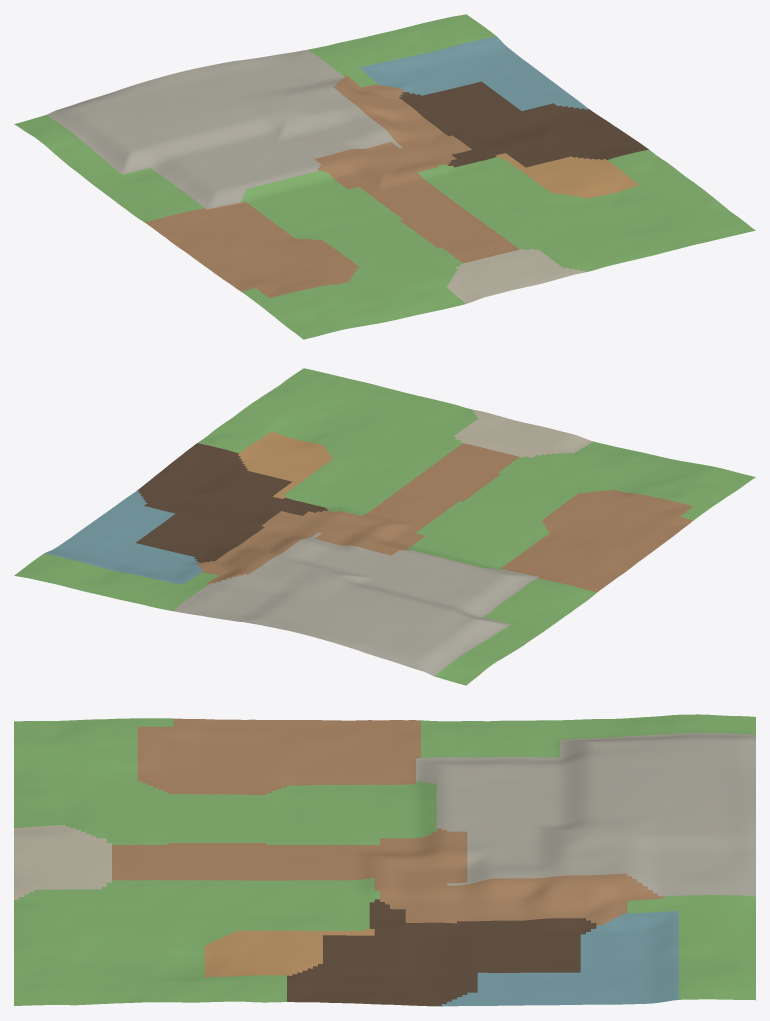
File: cedar_hollow_heightmesh.glb
3 views of the same model, one above another, from view 1: azimuth 30°, elevation 25°; view 2: azimuth 150°, elevation 25°; view 3: azimuth 270°, elevation 25° (orthographic). The views are drawn at different scales.
Visible parts, largest first — view 1: cedar_hollow_heightmesh; view 2: cedar_hollow_heightmesh; view 3: cedar_hollow_heightmesh.
Boxes of the visible parts, x1,y1,x2,y2 form: cedar_hollow_heightmesh: (14,14,755,339); cedar_hollow_heightmesh: (14,368,755,685); cedar_hollow_heightmesh: (14,714,755,1006).
Bounding box in the file's own units: 11 × 0.4437 × 12.2.
